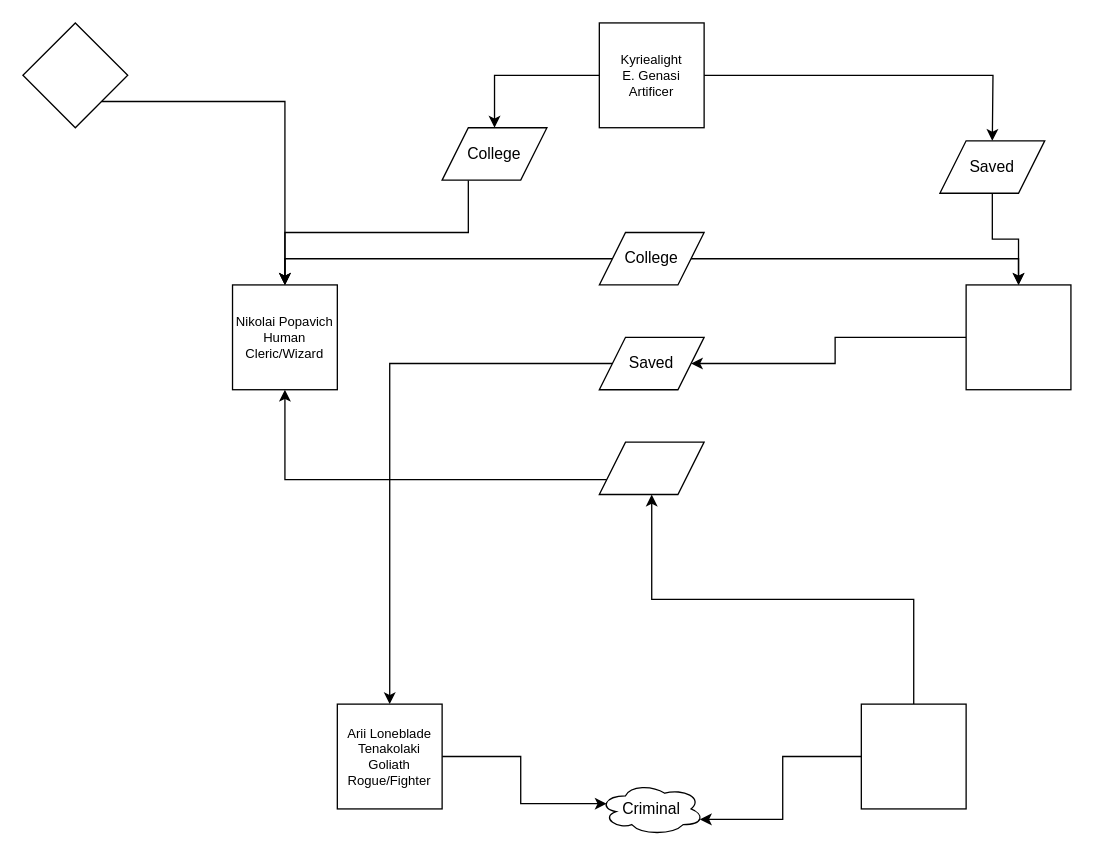
Image size: 1094x858. Some labels were removed from this diagram. The centre of each missing label's shape, as x and y in pixels:
Boyle Dwarf Fighter/Barbarian: pixel 913 756
Cucu Kenku Druid: pixel 1018 337
Hired: pixel 651 468
Preist Dad: pixel 75 75
